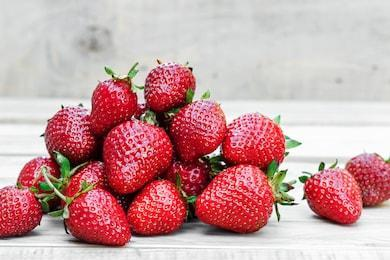Fresa: (191, 162, 281, 237), (100, 112, 176, 198), (219, 110, 290, 174), (62, 185, 133, 248), (166, 98, 229, 167), (299, 164, 366, 228), (128, 177, 193, 239), (86, 74, 140, 139), (140, 59, 199, 116), (344, 150, 390, 210)
